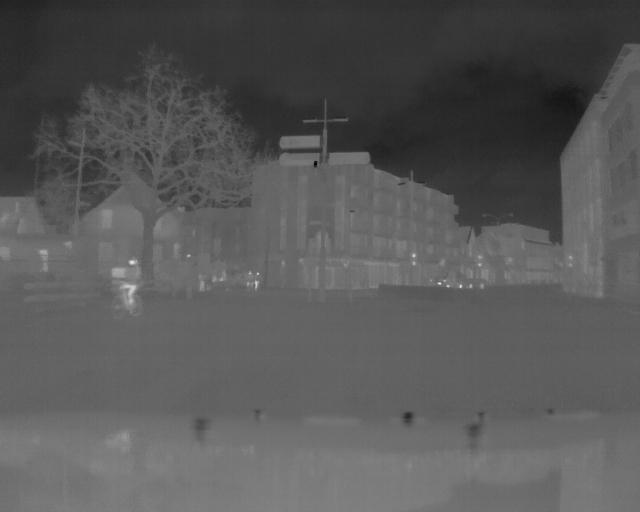person: (117, 253, 146, 314), (252, 269, 261, 293)
